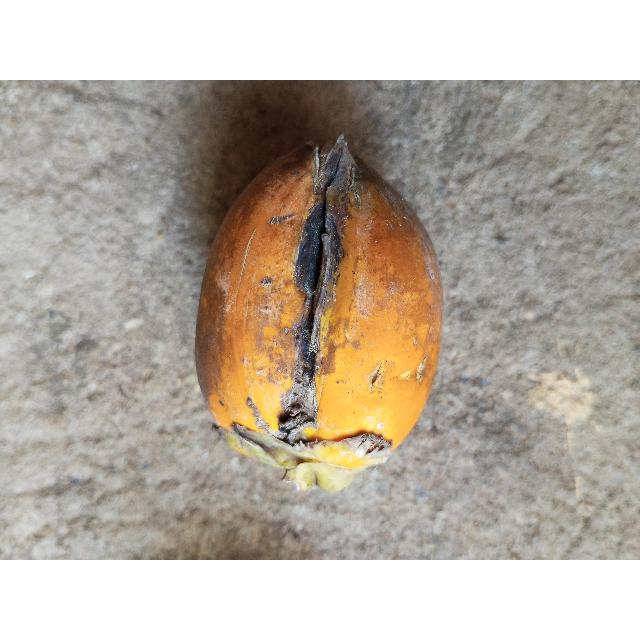damaged: (196, 137, 444, 493)
